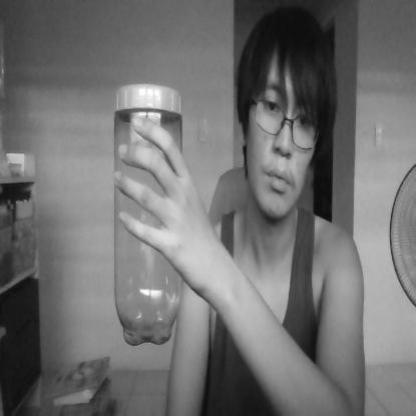Plastic Bottle: (103, 70, 191, 352)
